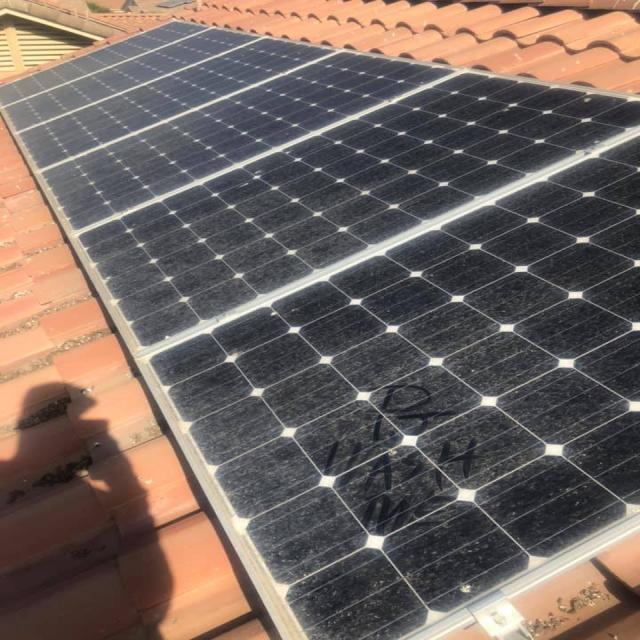dust-solar-panel: (5, 22, 638, 640)
